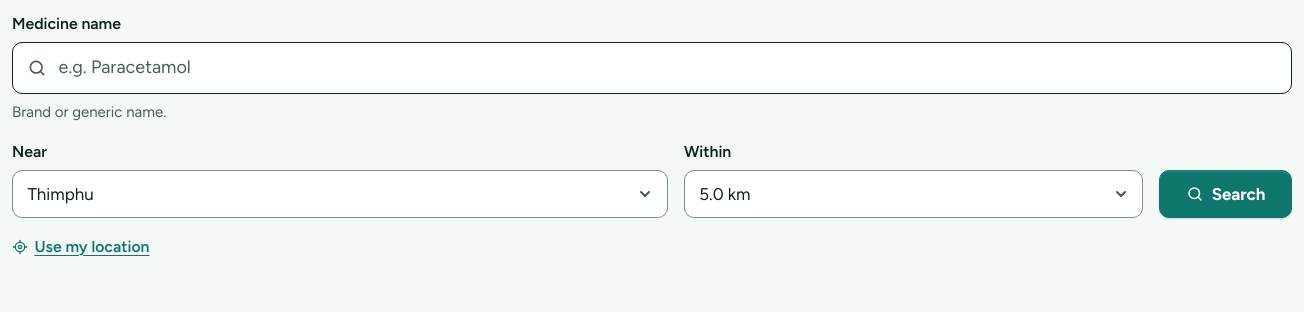
SearchForm: using the device location › goes back to the town list with Use a town instead
Click the button "Use my location" at (92, 246), box [12,225,668,269]
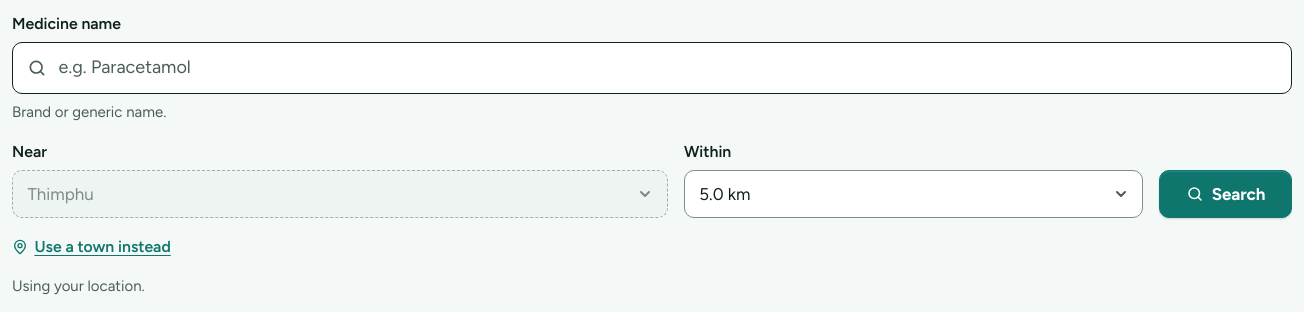
Click the button "Use a town instead" at (103, 246), box [12,225,668,269]
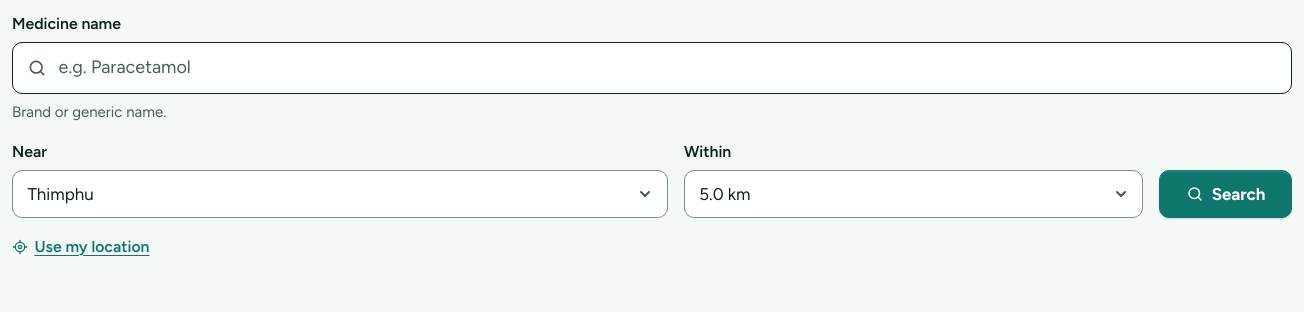
Now the dropdown labelled "Near" is enabled, box [12,170,668,218]
Now the button "Use my location" is shown, box [12,225,668,269]
